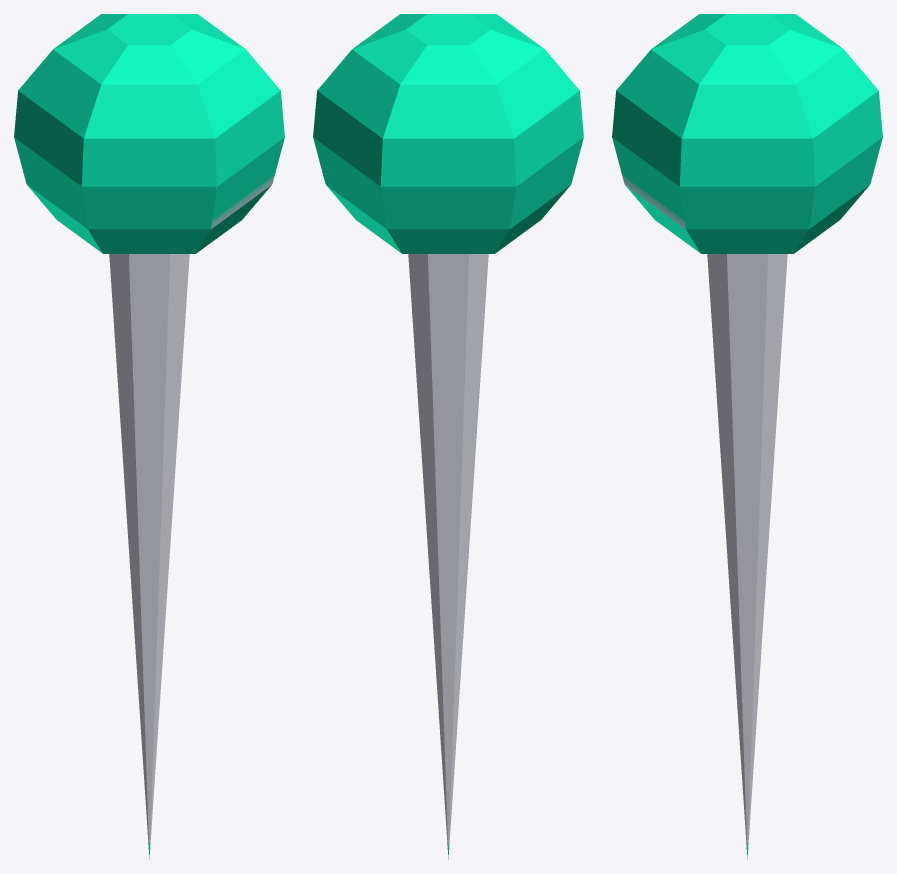
3 renders of one model, left to right at view 1: azimuth 30°, elevation 25°; view 2: azimuth 150°, elevation 25°; view 3: azimuth 270°, elevation 25°, orthographic.
Parts seen in each view (by area): view 1: 円錐; view 2: 円錐; view 3: 円錐.
Part boxes in pixels (<box>): 円錐: <box>14,14,284,859</box>; 円錐: <box>313,14,583,859</box>; 円錐: <box>612,14,882,859</box>.
Size of the model in its own units: 191 by 745 by 220.
1 material, 1 textured.
